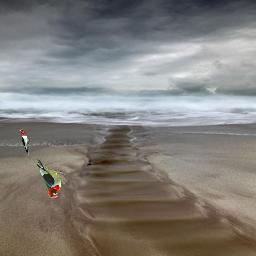Woodpecker: (35, 159, 65, 199), (19, 129, 30, 156)
